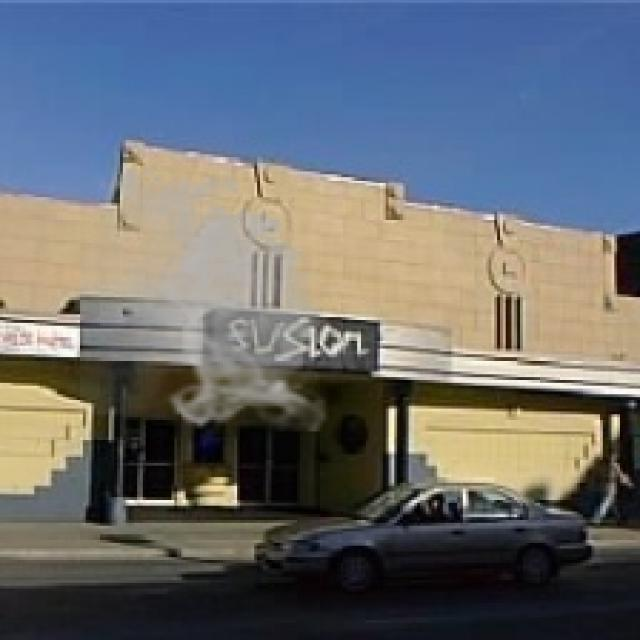smoke: (80, 157, 340, 432)
